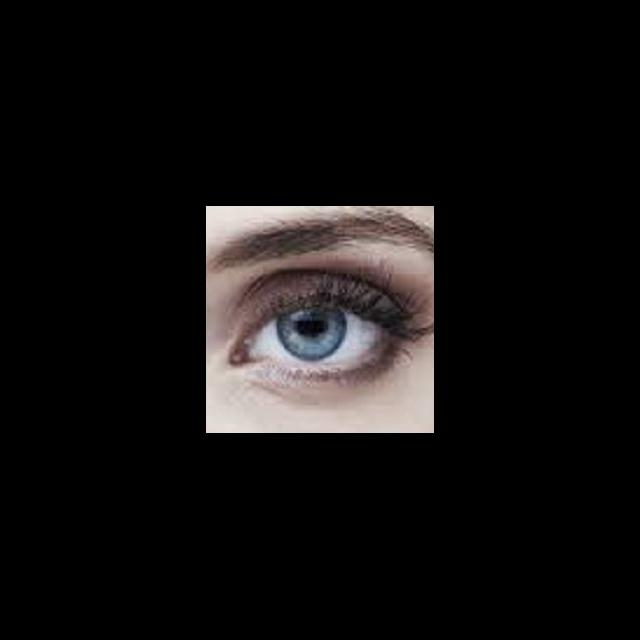eye: (249, 310, 384, 368)
iris: (277, 313, 347, 362)
